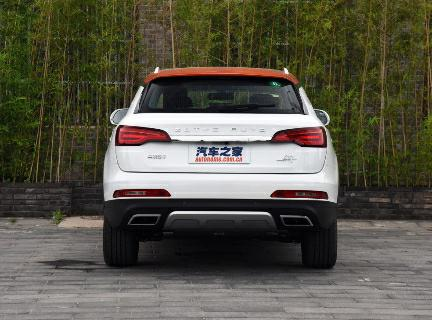众泰-SR7: (93, 58, 349, 280)
